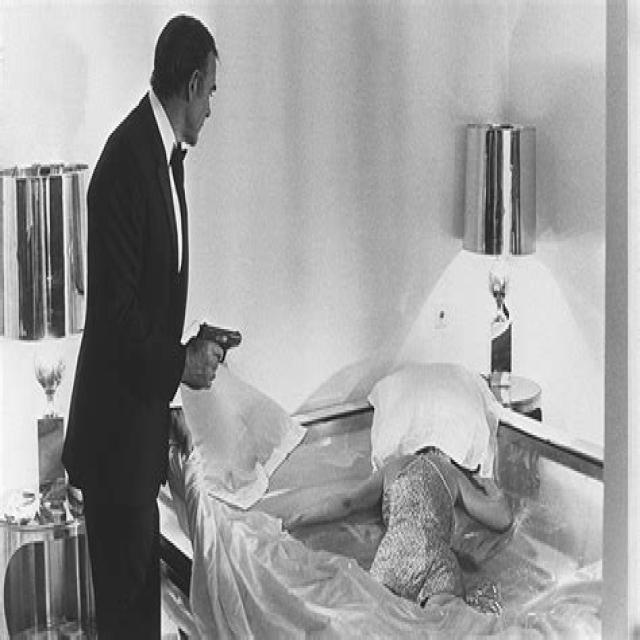weapons: (186, 300, 253, 406)
